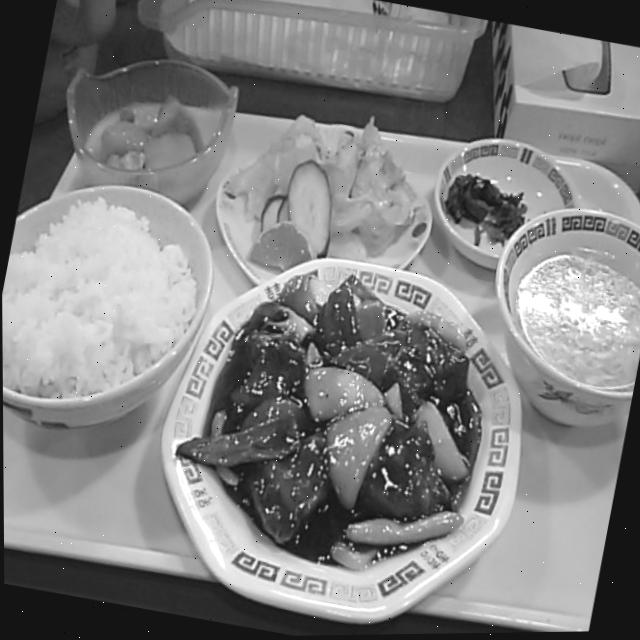汤锅炖物: (476, 195, 640, 409)
猪肉菜式: (154, 243, 507, 595)
米饭主食: (1, 160, 212, 435)
蔬菜料理: (216, 93, 443, 310)
